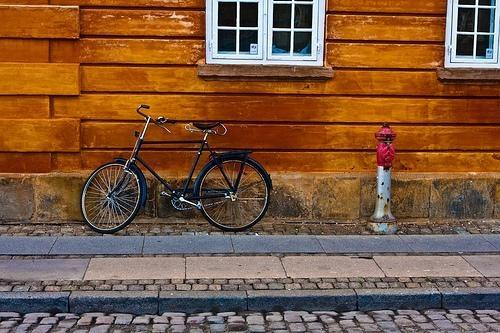bicycle: (80, 104, 274, 234)
